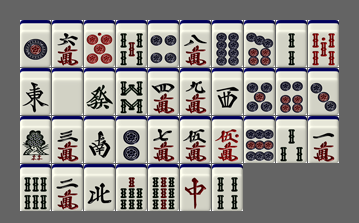0m: (212, 116, 243, 163)
0p: (84, 20, 115, 67)
0s: (308, 20, 339, 67)
1m: (308, 116, 339, 163)
1p: (20, 20, 51, 67)
1s: (20, 116, 51, 163)
1z: (20, 68, 51, 115)
2m: (52, 164, 83, 211)
2p: (116, 116, 147, 163)
2s: (276, 20, 307, 67)
2z: (84, 116, 115, 163)
3m: (52, 116, 83, 163)
3p: (308, 68, 339, 115)
3s: (276, 116, 307, 163)
3z: (212, 68, 243, 115)
4m: (148, 68, 179, 115)
4p: (148, 20, 179, 67)
4s: (212, 164, 243, 211)
4z: (84, 164, 115, 211)
5m: (180, 116, 211, 163)
5p: (244, 68, 275, 115)
5s: (116, 20, 147, 67)
5z: (52, 68, 83, 115)
6m: (52, 20, 83, 67)
6p: (276, 68, 307, 115)
6s: (20, 164, 51, 211)
6z: (84, 68, 115, 115)
7m: (148, 116, 179, 163)
7p: (244, 20, 275, 67)
7s: (116, 164, 147, 211)
7z: (180, 164, 211, 211)
8m: (180, 20, 211, 67)
8p: (212, 20, 243, 67)
8s: (116, 68, 147, 115)
9m: (180, 68, 211, 115)
9p: (244, 116, 275, 163)
9s: (148, 164, 179, 211)
